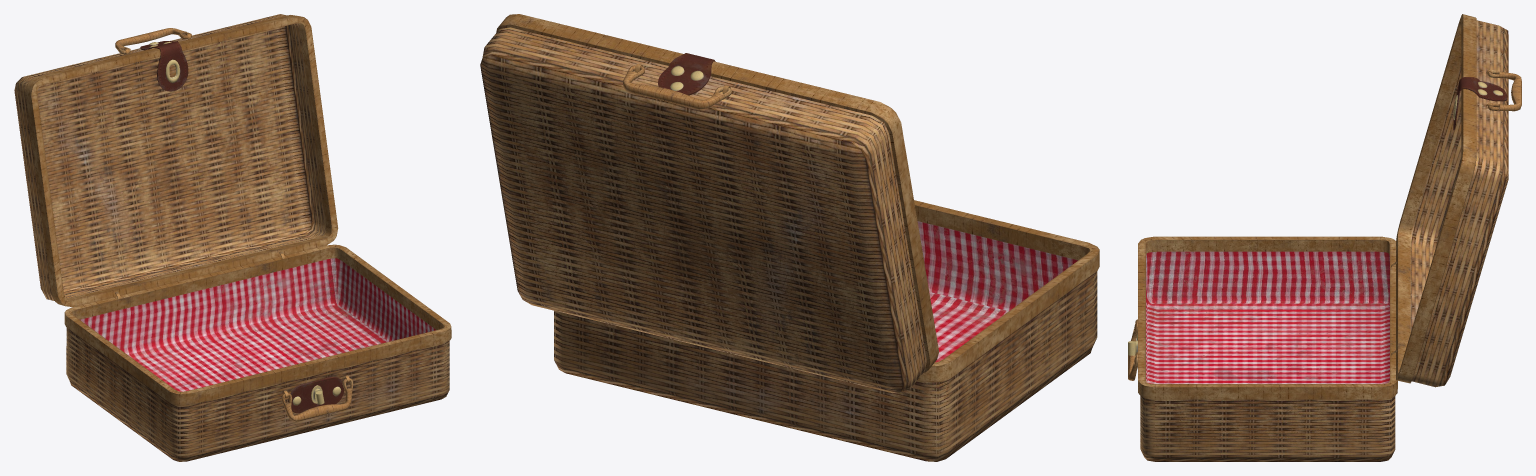
Rendered from picnic_basket.glb.
3 views of the same model, side by side, from view 1: azimuth 30°, elevation 25°; view 2: azimuth 150°, elevation 25°; view 3: azimuth 270°, elevation 25° (orthographic). The views are drawn at different scales.
Parts seen in each view (by area): view 1: picnic_basket; view 2: picnic_basket; view 3: picnic_basket.
Boxes of the visible parts, bbox=[...] form: picnic_basket: bbox=[14, 14, 451, 461]; picnic_basket: bbox=[480, 14, 1099, 461]; picnic_basket: bbox=[1128, 14, 1521, 461].
Bounding box in the file's own units: 2.71 × 2.6 × 3.
1 material, 1 textured.
